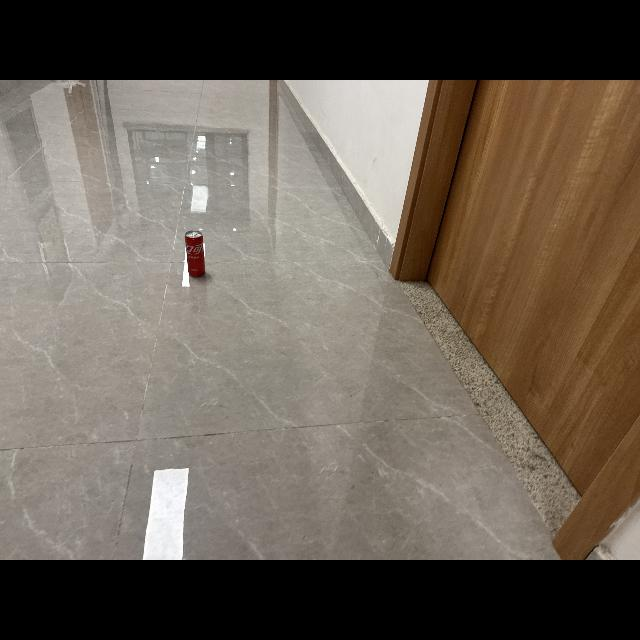Cola: (181, 227, 215, 283)
